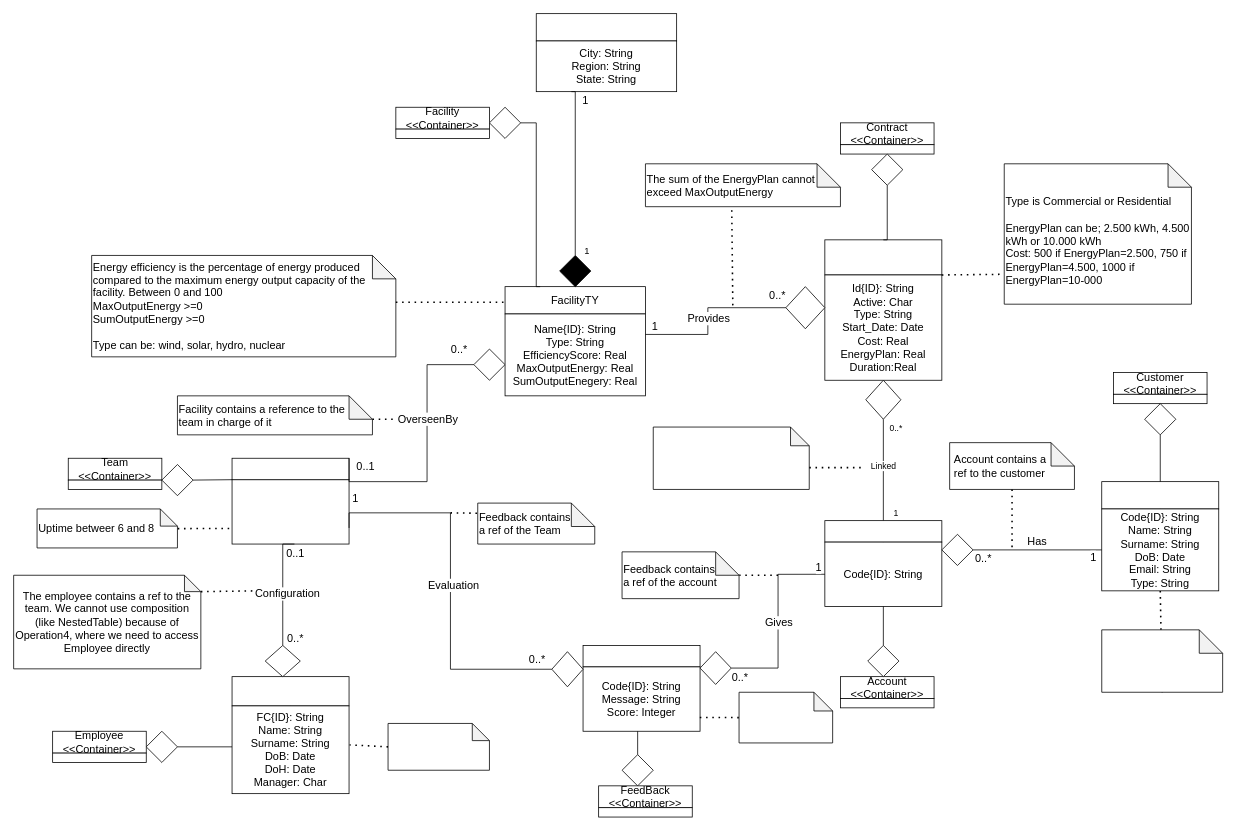
Some shapes in this 1236 by 831 pixel diagram are drawn without their labels. Each missing label, with the box of its shape:
AccountTY: (824, 520, 942, 542)
Can't be a minor DoH > DoB: (387, 723, 489, 770)
Code{ID}: String Name String Uptime:Integer: (231, 479, 349, 544)
ContractTY: (824, 239, 942, 275)
CustomerTY: (1101, 481, 1219, 509)
EmployeeTY: (231, 676, 349, 706)
FeedbackTY: (582, 645, 700, 667)
He can't be a minor Type is Commercial or Residential: (1101, 629, 1223, 692)
LocationTY: (535, 13, 677, 41)
Score is a number between 0 and 5: (738, 691, 833, 743)
TeamTY: (231, 457, 349, 480)
The customer associated to the account and the contract must be of the same type: (652, 426, 809, 489)
